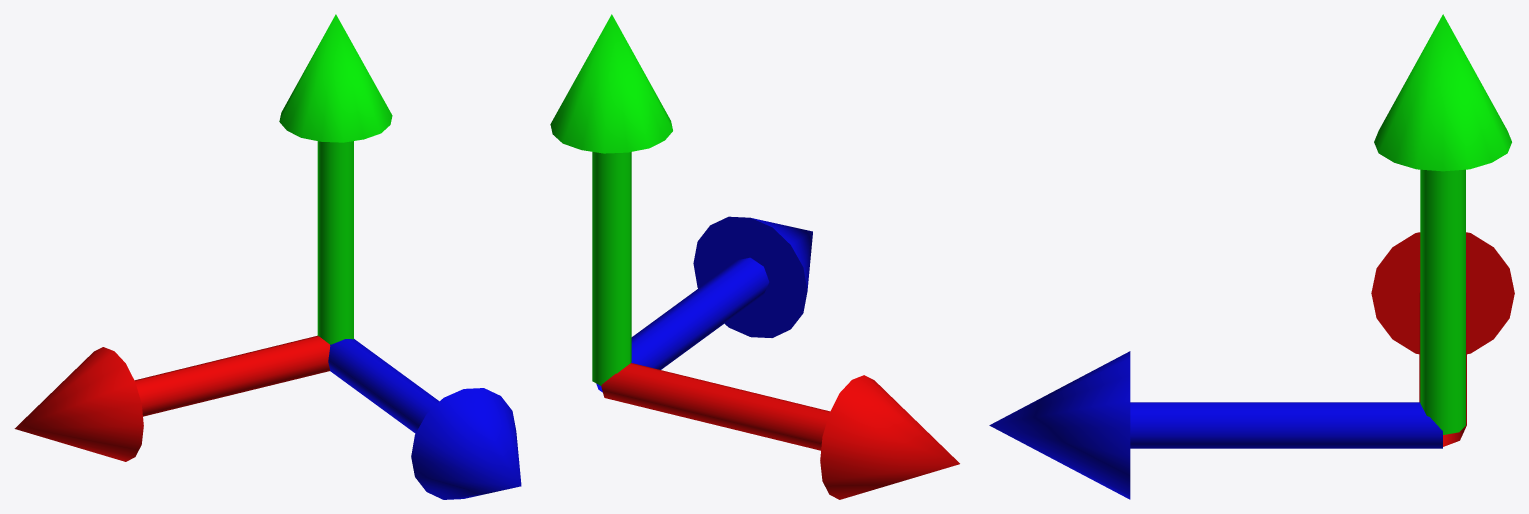
File: robot_arm_manipulator_grp.fbx
3 renders of one model, left to right at view 1: azimuth 30°, elevation 25°; view 2: azimuth 150°, elevation 25°; view 3: azimuth 270°, elevation 25°, orthographic. The views are drawn at different scales.
Parts seen in each view (by area): view 1: pos_rot_manip; view 2: pos_rot_manip; view 3: pos_rot_manip.
Boxes of the visible parts, <box> form: pos_rot_manip: <box>14,14,521,499</box>; pos_rot_manip: <box>550,14,959,499</box>; pos_rot_manip: <box>989,14,1514,499</box>.
Size of the model in its own units: 15.21 by 15.21 by 15.13.
